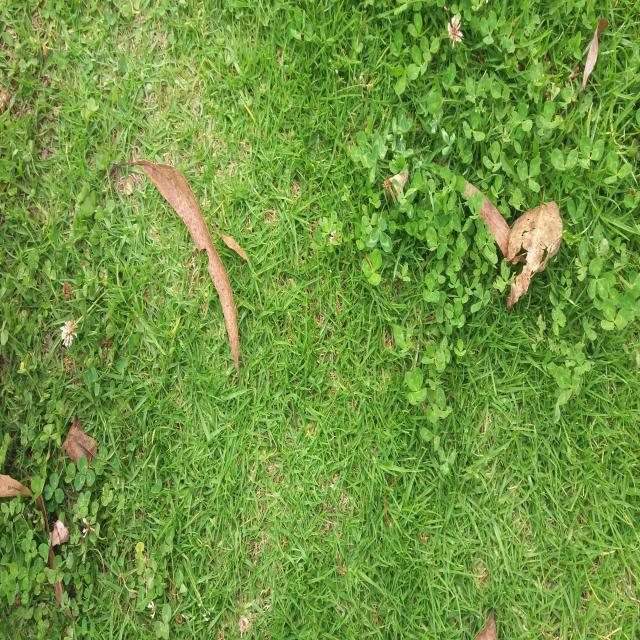Four Leaf Clover: (405, 367, 427, 405)
